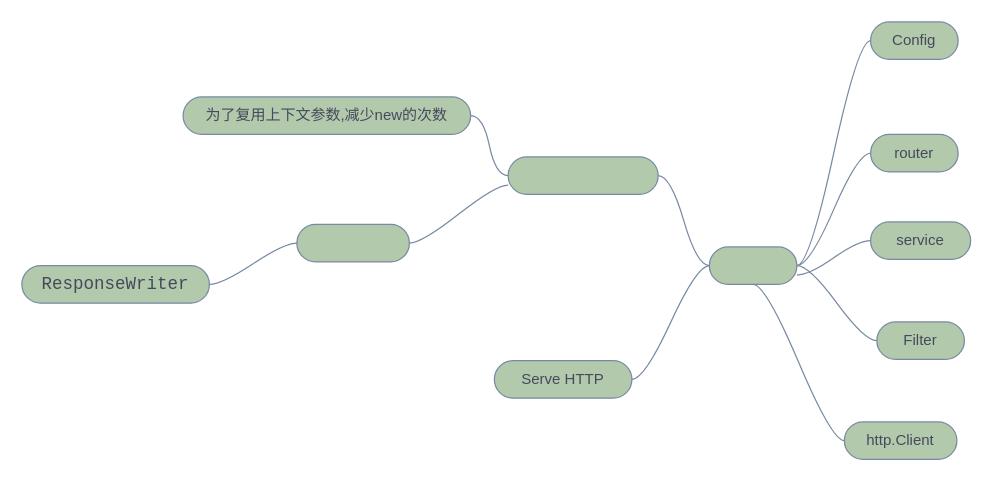
This 993x481 diagram has some shape labels left out. Each missing label, with the box of its shape:
Context: (296, 223, 409, 262)
Proxy: (708, 246, 797, 284)
sync.Pool: (507, 156, 658, 194)
